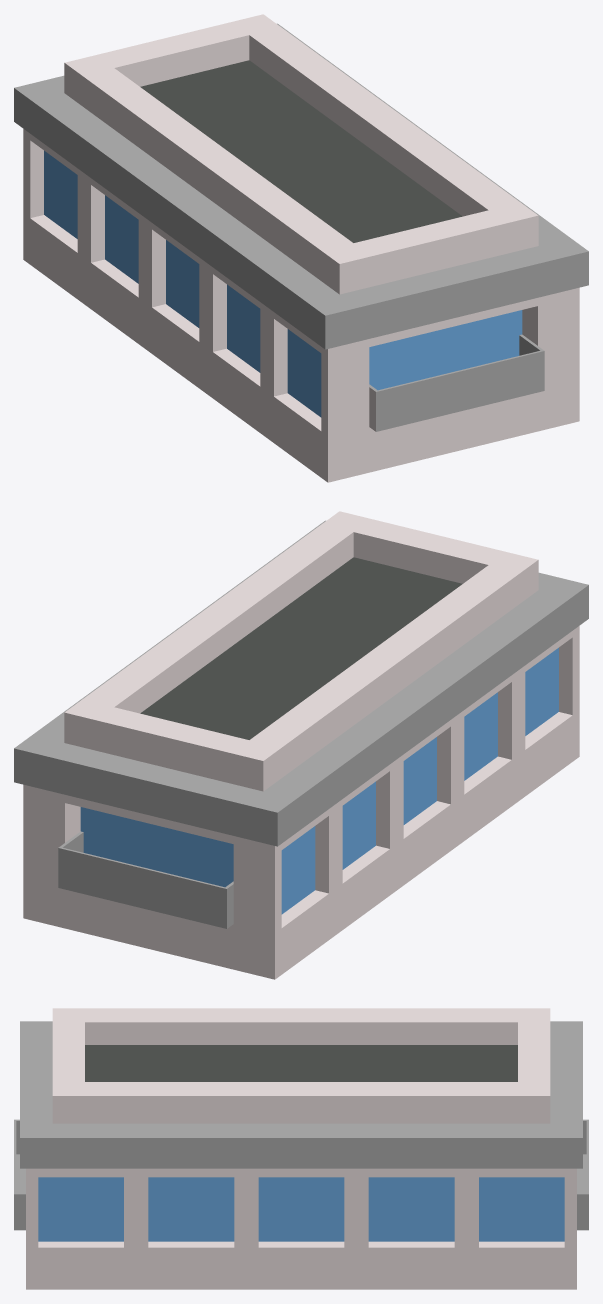
File: building_1x2_1_r_beigepink.glb
3 renders of one model, top to bottom at view 1: azimuth 30°, elevation 25°; view 2: azimuth 150°, elevation 25°; view 3: azimuth 270°, elevation 25°, orthographic. The views are drawn at different scales.
Visible parts, largest first — view 1: Cube.001; view 2: Cube.001; view 3: Cube.001.
Part boxes in pixels (x1=…): Cube.001: x1=14, y1=14, x2=588, y2=482; Cube.001: x1=14, y1=511, x2=588, y2=979; Cube.001: x1=14, y1=1008, x2=588, y2=1289.
Size of the model in its own units: 1.86 by 1.35 by 3.87.
